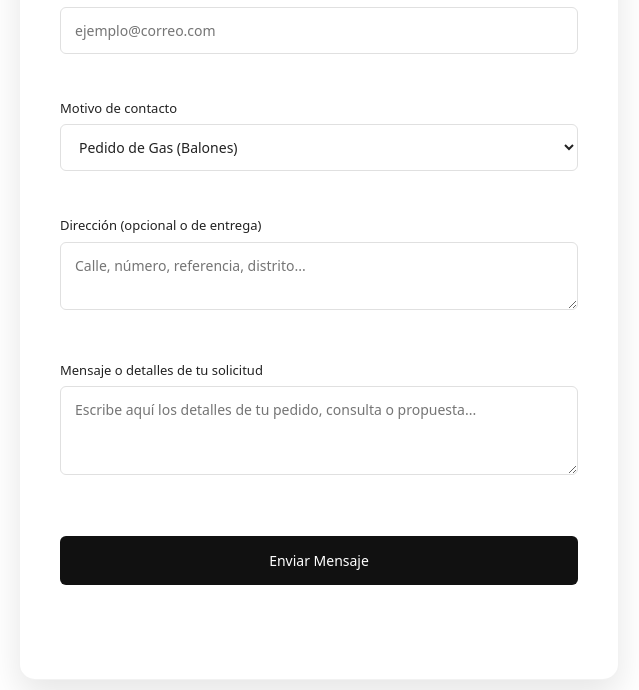
Test: Contacto - formulario › borra el error de un campo al escribir en él
This screenshot has width=639, height=690.
(page scrolled)
Click the button "Enviar Mensaje" at coordinates (319, 561), box [60,536,578,585]
(page scrolled)
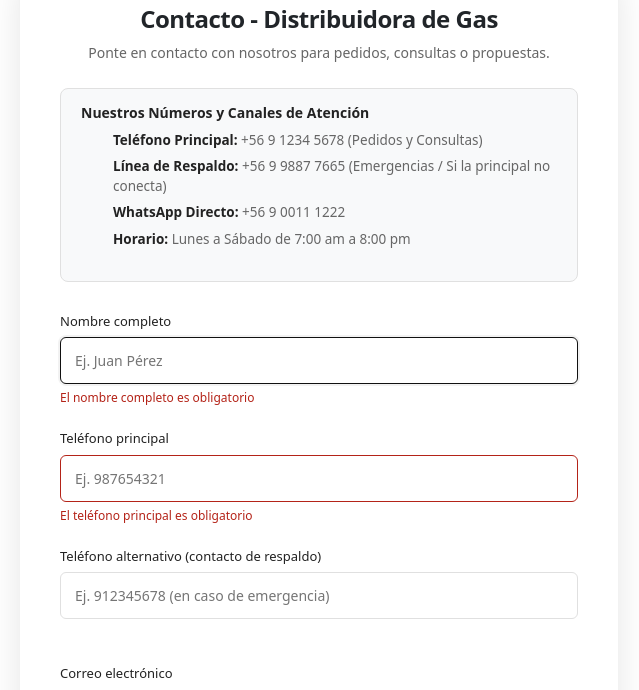
Result: the text "El nombre completo es obligatorio" is shown at [60,389,254,406]
Type "J" into the field labelled "Nombre completo" at coordinates (319, 361), box [60,337,578,384]
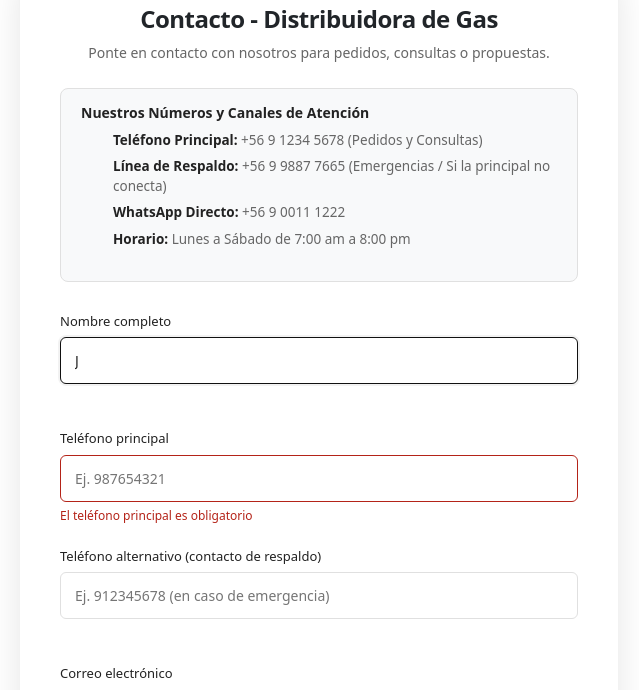
Result: the text "El nombre completo es obligatorio" is gone
